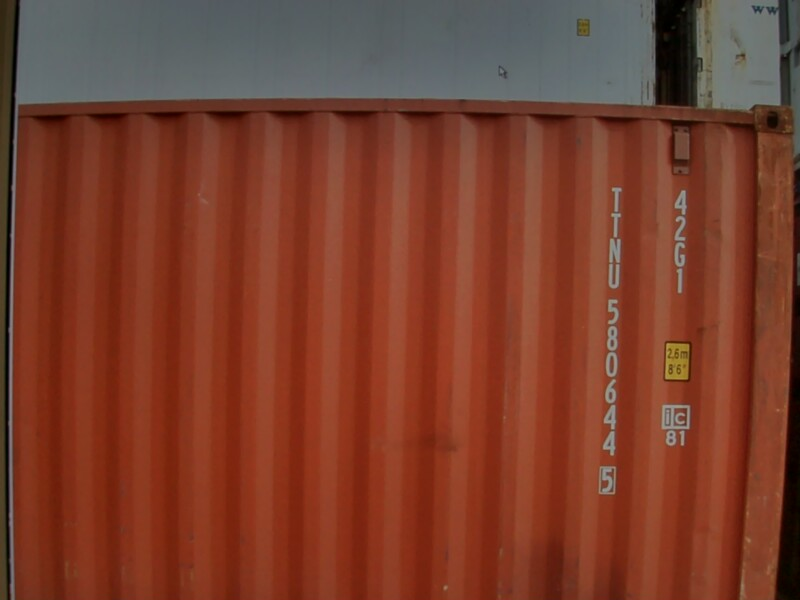container_no_door: (40, 97, 631, 600)
